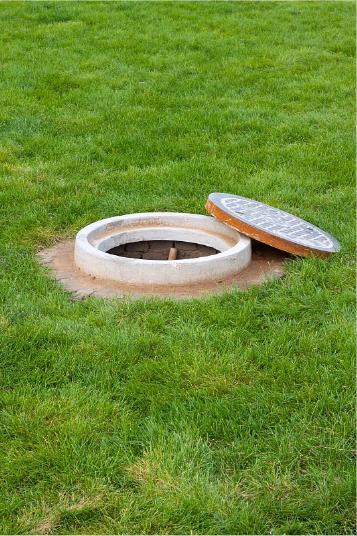wellcover: (79, 175, 342, 293)
